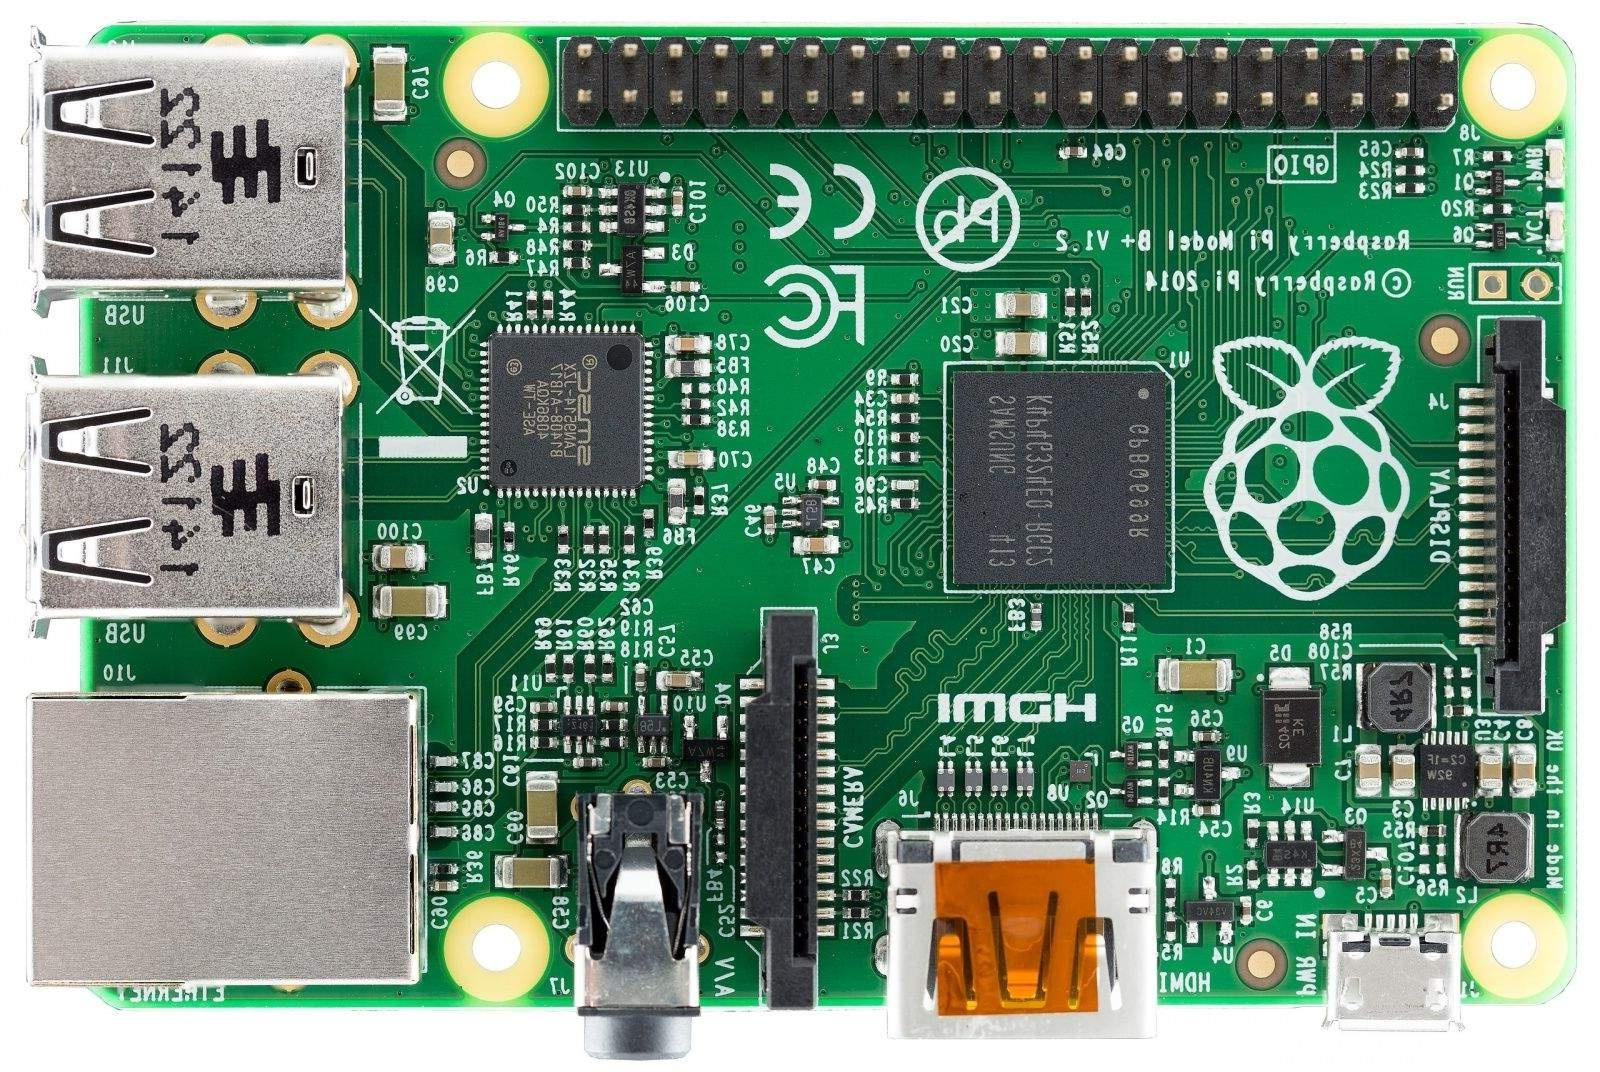audiojack: (564, 780, 709, 1067)
bchi: (932, 353, 1183, 599)
ethernet: (32, 692, 415, 985)
gpio: (551, 28, 1458, 127)
usb: (28, 366, 338, 620), (24, 53, 356, 290)
